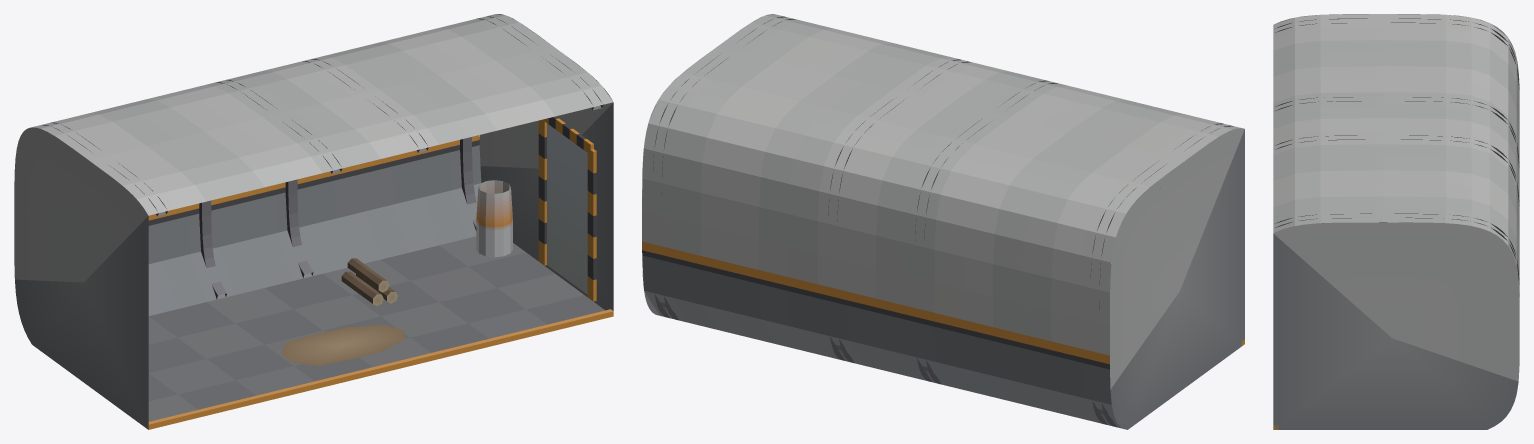
Rendered from room_a.glb.
3 renders of one model, left to right at view 1: azimuth 30°, elevation 25°; view 2: azimuth 150°, elevation 25°; view 3: azimuth 270°, elevation 25°, orthographic. The views are drawn at different scales.
Parts seen in each view (by area): view 1: room, daylight_glow; view 2: room; view 3: room.
Boxes of the visible parts, x1,y1,x2,y2 form: room: [14, 14, 613, 429]; daylight_glow: [547, 123, 587, 294]; room: [642, 14, 1244, 429]; room: [1273, 14, 1519, 429].
Bounding box in the file's own units: 5.6 × 2.6 × 2.8.
